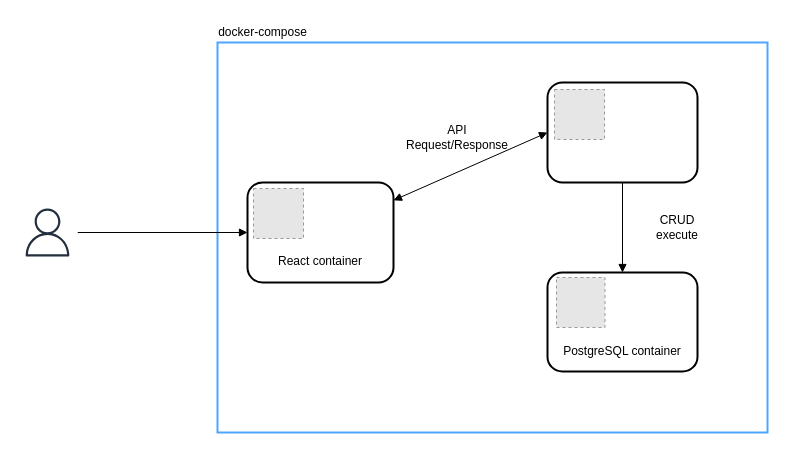
Image size: 786x450. Some labels were removed from this diagram. Grey dashed boxes stand in for pictures. Each missing label, with the box of its shape:
FastAPI container: (546, 81, 698, 183)
自分: (16, 202, 78, 262)
